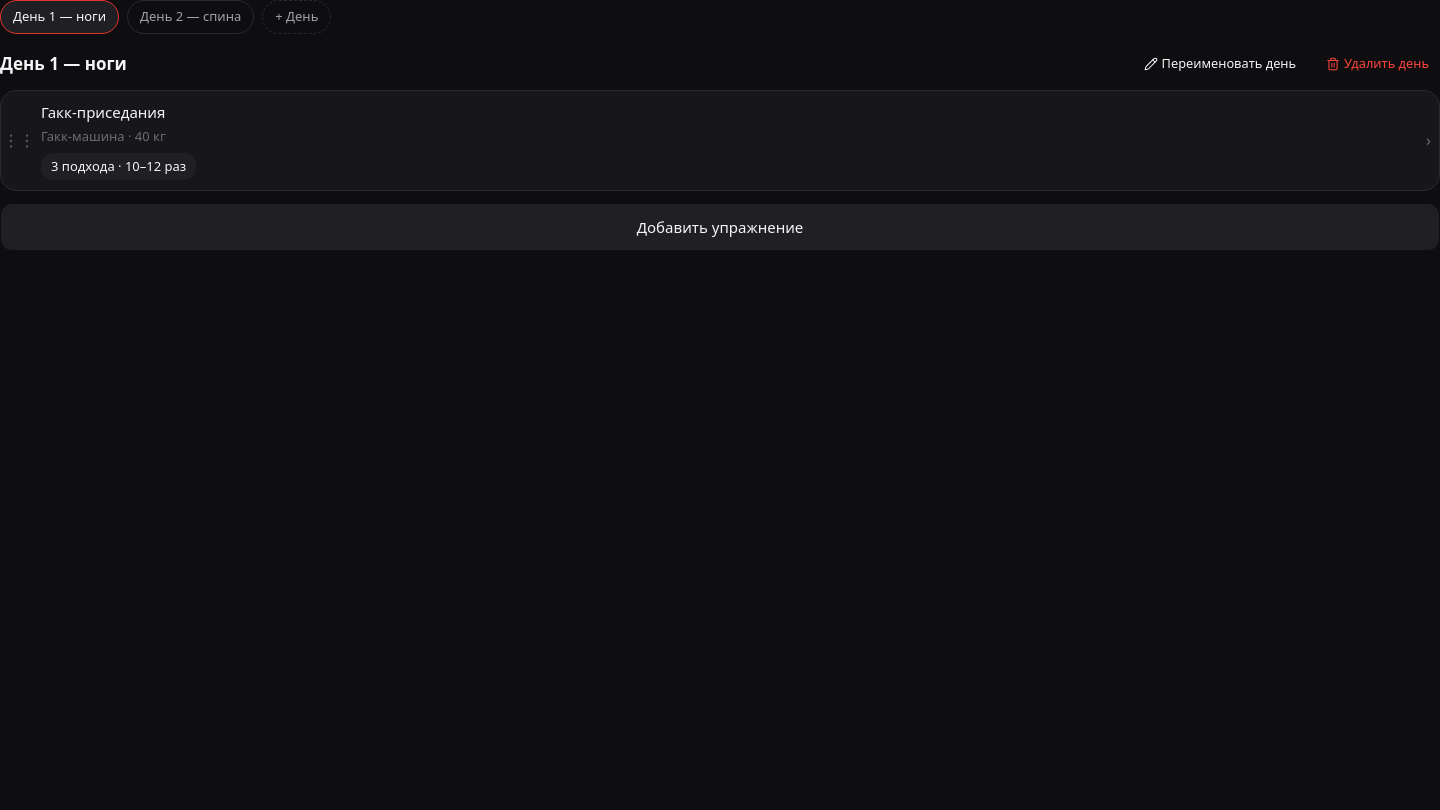
Test: после удаления дня редактор переключается на соседний день
Click the button "Удалить день" at coordinates (1378, 64), box [1315,50,1439,78]
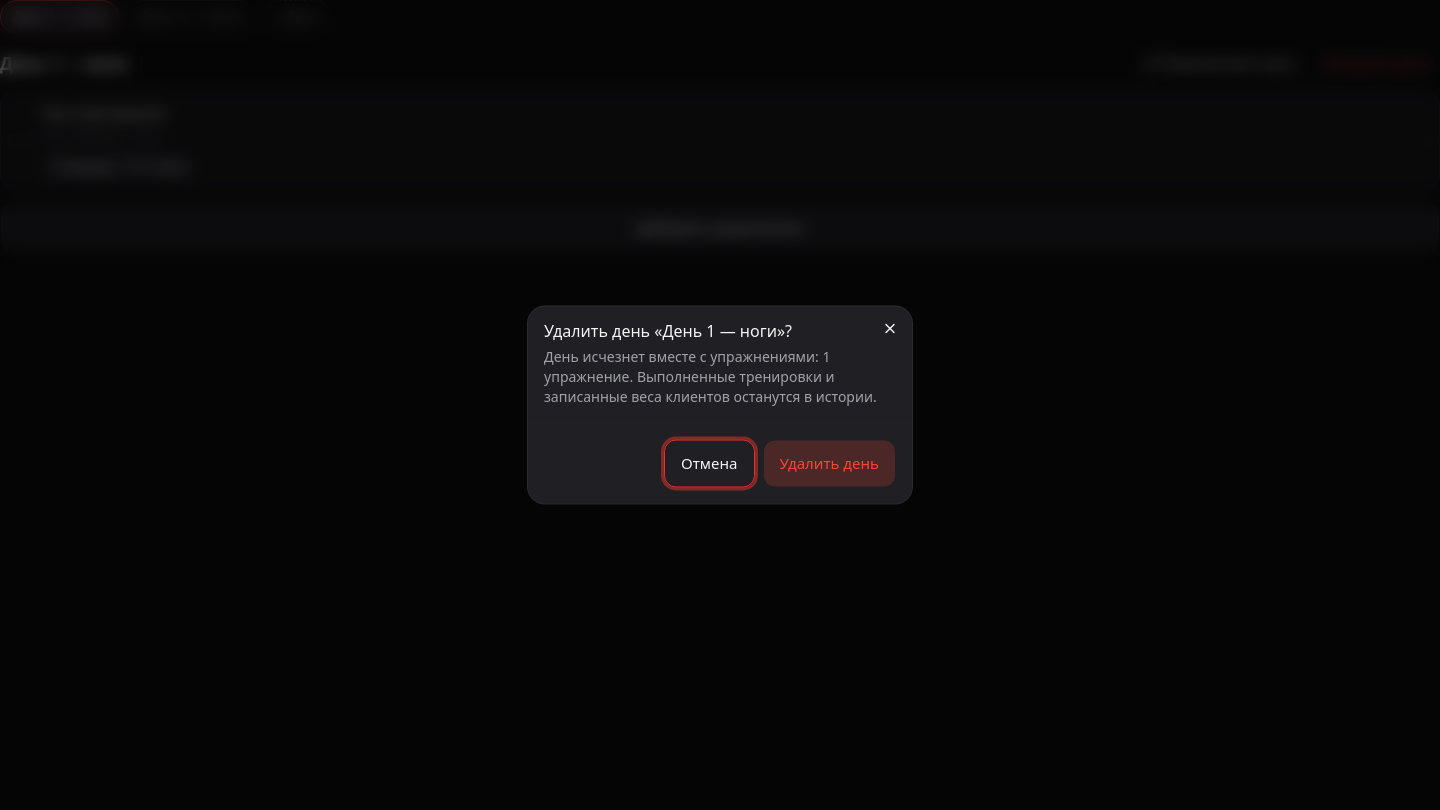
Click the button "Удалить день" at coordinates (829, 464), box [762,440,896,488]
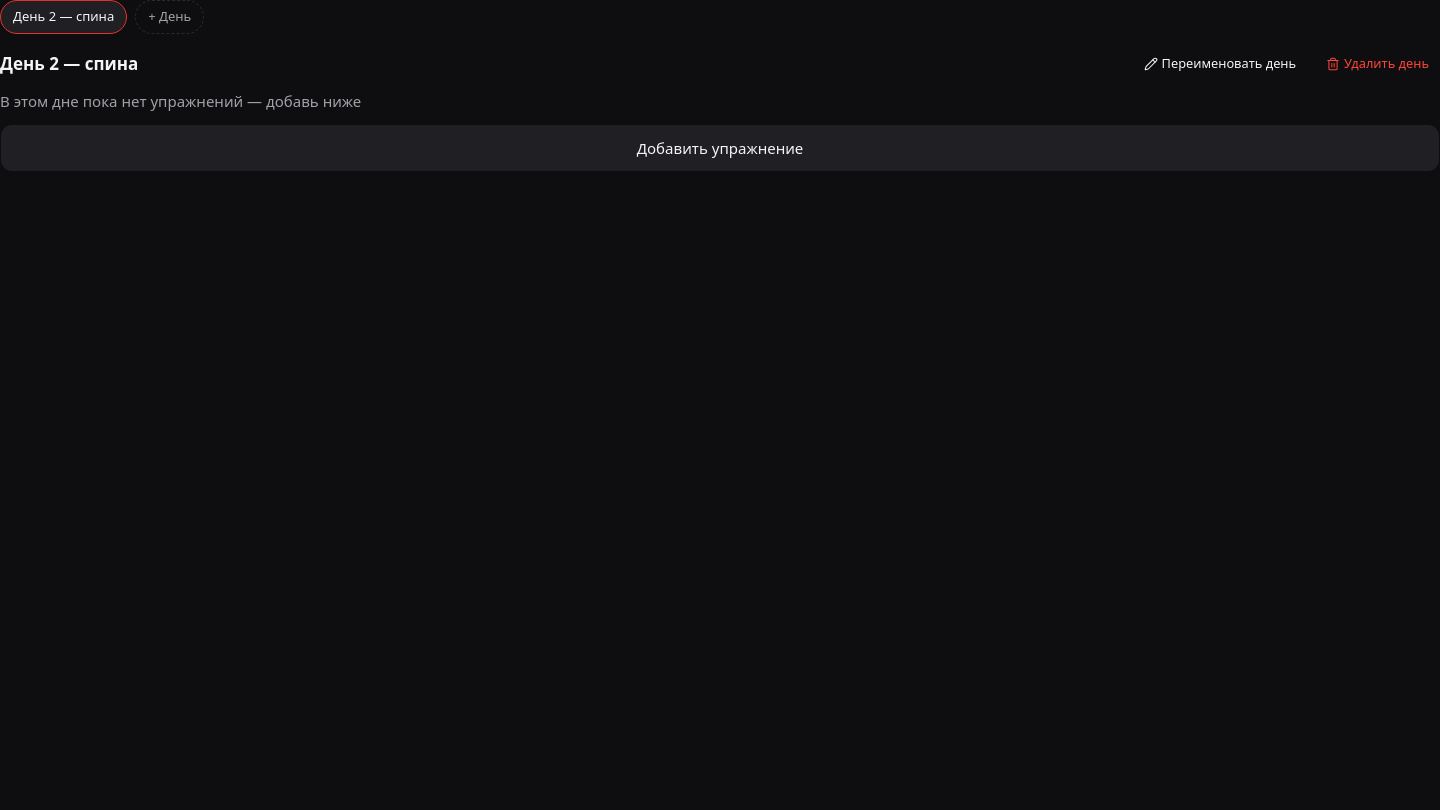
Now the heading "День 2 — спина" is shown, box [0,51,138,76]
Now the text "В этом дне пока нет упражнений — добавь ниже" is shown, box [0,90,361,110]
